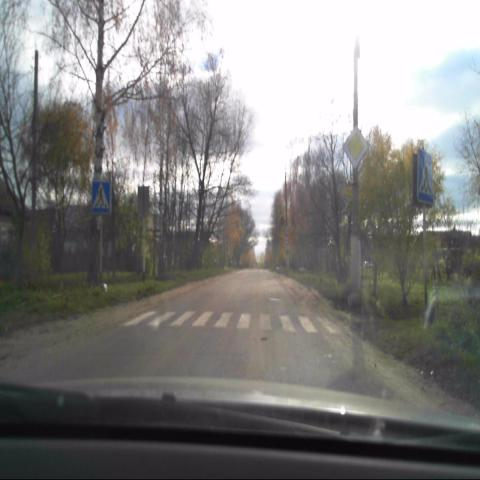2_1: (343, 126, 368, 172)
5_19_1: (416, 150, 436, 205), (92, 179, 112, 213)
